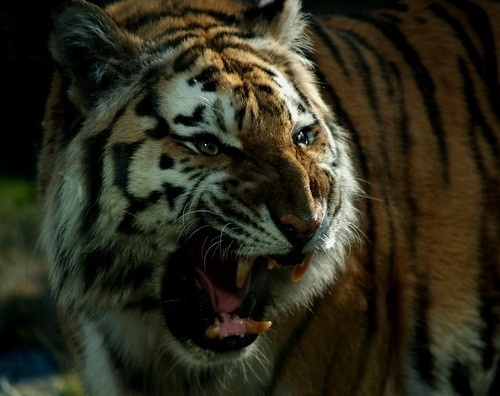tigre: (38, 1, 497, 396)
